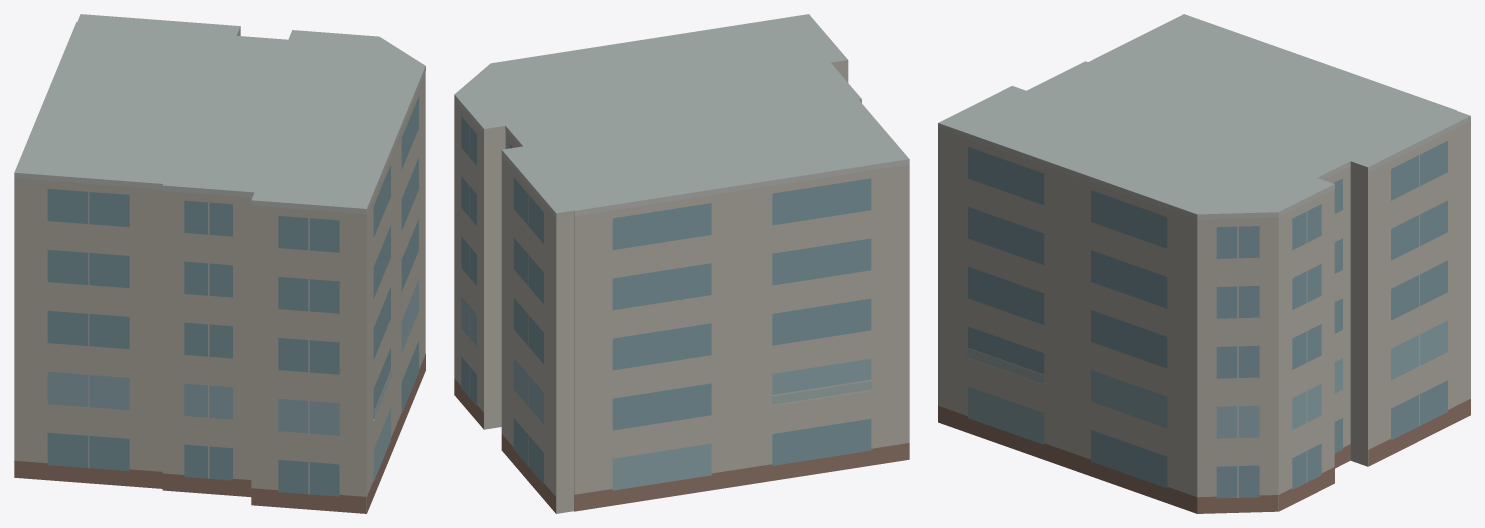
File: survey-upis-32720477.glb
3 renders of one model, left to right at view 1: azimuth 30°, elevation 25°; view 2: azimuth 150°, elevation 25°; view 3: azimuth 270°, elevation 25°, orthographic.
Visible parts, largest first — view 1: survey-upis-32720477.tmp; view 2: survey-upis-32720477.tmp; view 3: survey-upis-32720477.tmp.
Part boxes in pixels (<box>): survey-upis-32720477.tmp: <box>14,14,425,513</box>; survey-upis-32720477.tmp: <box>454,14,909,513</box>; survey-upis-32720477.tmp: <box>938,14,1470,513</box>.
Bounding box in the file's own units: 19.74 × 13.75 × 22.18.
